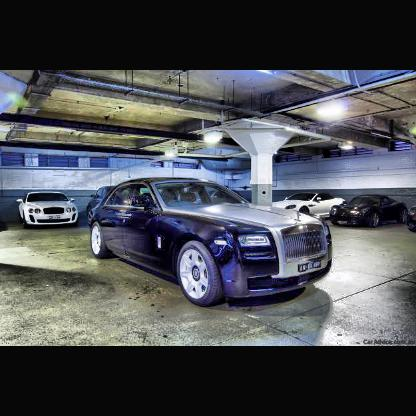Rolls-Royce Ghost Sedan 2012: (90, 178, 334, 305)
